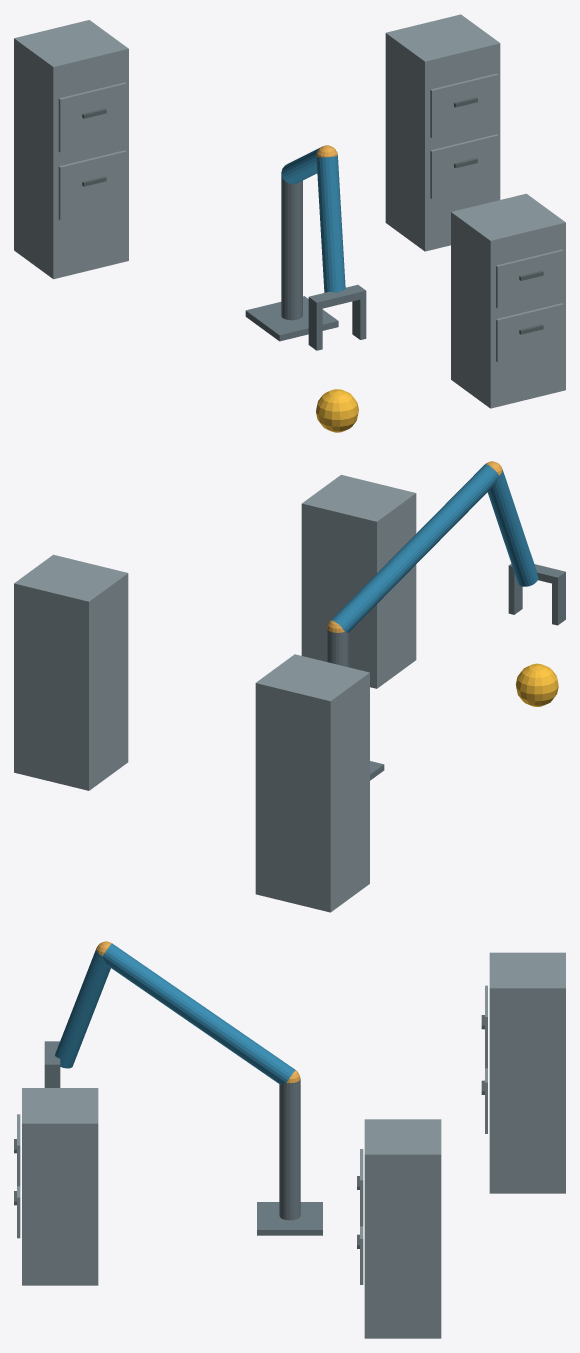
The picture shows the model from 3 angles, top to bottom: view 1: azimuth 30°, elevation 25°; view 2: azimuth 150°, elevation 25°; view 3: azimuth 270°, elevation 25°; orthographic projection. The views are drawn at different scales.
Visible parts, largest first — view 1: cabinet_3 body, cabinet_2 body, cabinet_1 body, cabinet_3 drawer front, cabinet_3 drawer front.001, cabinet_2 drawer front, cabinet_2 drawer front.001, fixed post, moving link 2, cabinet_1 drawer front.001, cabinet_1 drawer front, pedestal (+5 smaller); view 2: cabinet_3 body, cabinet_2 body, cabinet_1 body, moving link 1, moving link 2, ball ball_1, fixed post, gripper finger -1; view 3: cabinet_3 body, cabinet_2 body, cabinet_1 body, moving link 1, fixed post, moving link 2, pedestal.
Boxes of the visible parts, x1=… form: cabinet_3 body: x1=14, y1=20, x2=128, y2=279; cabinet_2 body: x1=385, y1=14, x2=500, y2=251; cabinet_1 body: x1=451, y1=193, x2=565, y2=408; cabinet_3 drawer front: x1=58, y1=150, x2=126, y2=220; cabinet_3 drawer front.001: x1=58, y1=82, x2=126, y2=152; cabinet_2 drawer front: x1=430, y1=134, x2=498, y2=198; cabinet_2 drawer front.001: x1=430, y1=73, x2=498, y2=138; fixed post: x1=281, y1=175, x2=302, y2=320; moving link 2: x1=316, y1=155, x2=345, y2=292; cabinet_1 drawer front.001: x1=496, y1=249, x2=563, y2=308; cabinet_1 drawer front: x1=496, y1=303, x2=563, y2=362; pedestal: x1=245, y1=296, x2=338, y2=341; cabinet_3 body: x1=255, y1=654, x2=369, y2=912; cabinet_2 body: x1=14, y1=554, x2=128, y2=790; cabinet_1 body: x1=301, y1=475, x2=416, y2=688; moving link 1: x1=331, y1=464, x2=498, y2=632; moving link 2: x1=487, y1=469, x2=538, y2=586; ball ball_1: x1=515, y1=663, x2=558, y2=706; fixed post: x1=327, y1=629, x2=348, y2=667; gripper finger -1: x1=552, y1=579, x2=565, y2=625; cabinet_3 body: x1=489, y1=952, x2=565, y2=1193; cabinet_2 body: x1=364, y1=1119, x2=441, y2=1338; cabinet_1 body: x1=22, y1=1088, x2=98, y2=1285; moving link 1: x1=102, y1=943, x2=295, y2=1084; fixed post: x1=279, y1=1079, x2=300, y2=1220; moving link 2: x1=55, y1=949, x2=110, y2=1068; pedestal: x1=257, y1=1202, x2=322, y2=1235.
Bounding box in the file's own units: 1.62 × 1.05 × 2.1.
